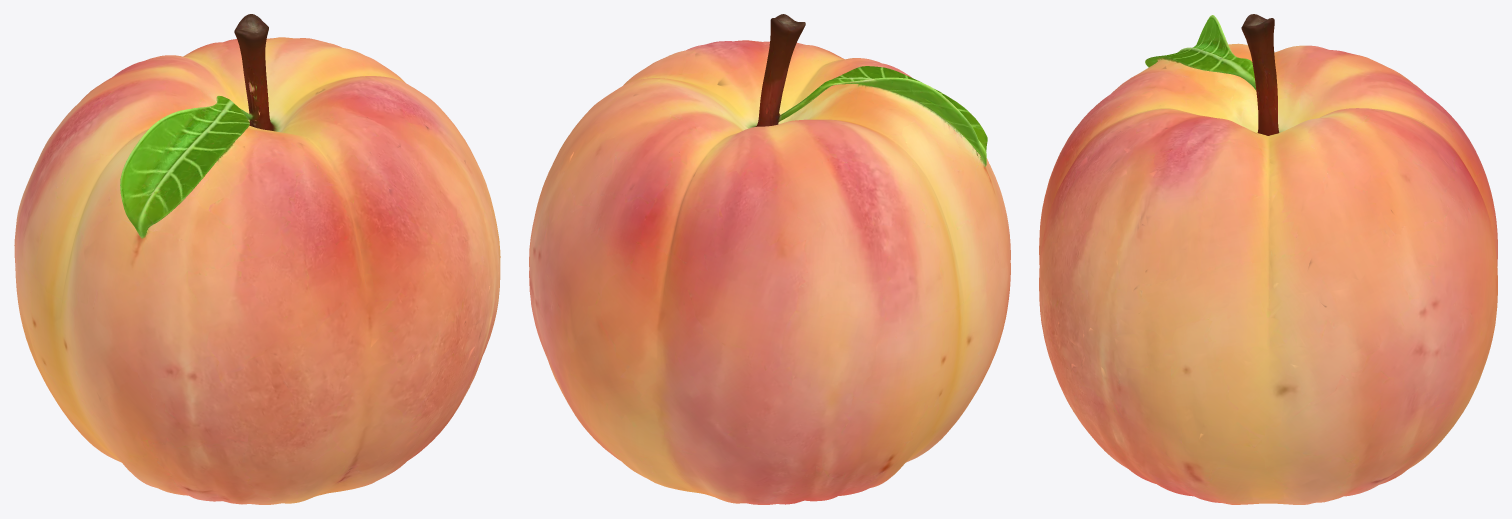
Rendered from peach.glb.
3 renders of one model, left to right at view 1: azimuth 30°, elevation 25°; view 2: azimuth 150°, elevation 25°; view 3: azimuth 270°, elevation 25°, orthographic.
Visible parts, largest first — view 1: Mesh_0; view 2: Mesh_0; view 3: Mesh_0.
Part boxes in pixels (x1,y1,x2,y2): Mesh_0: (14, 14, 500, 504); Mesh_0: (529, 14, 1010, 504); Mesh_0: (1039, 14, 1497, 504).
Size of the model in its own units: 0.0846 by 0.09 by 0.0847.
1 material, 1 textured.
